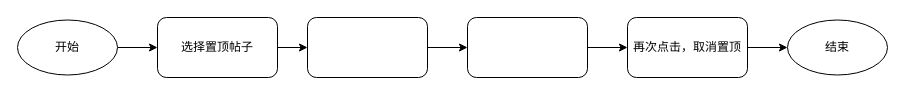
Image size: 905x95. Some labels were removed from this diagram. Here are the shapes that lost their labels. From the top down, the centre of each, then its label:
At [367,47]: "点击置顶按钮".
At [527,47]: "显示置顶效果".
